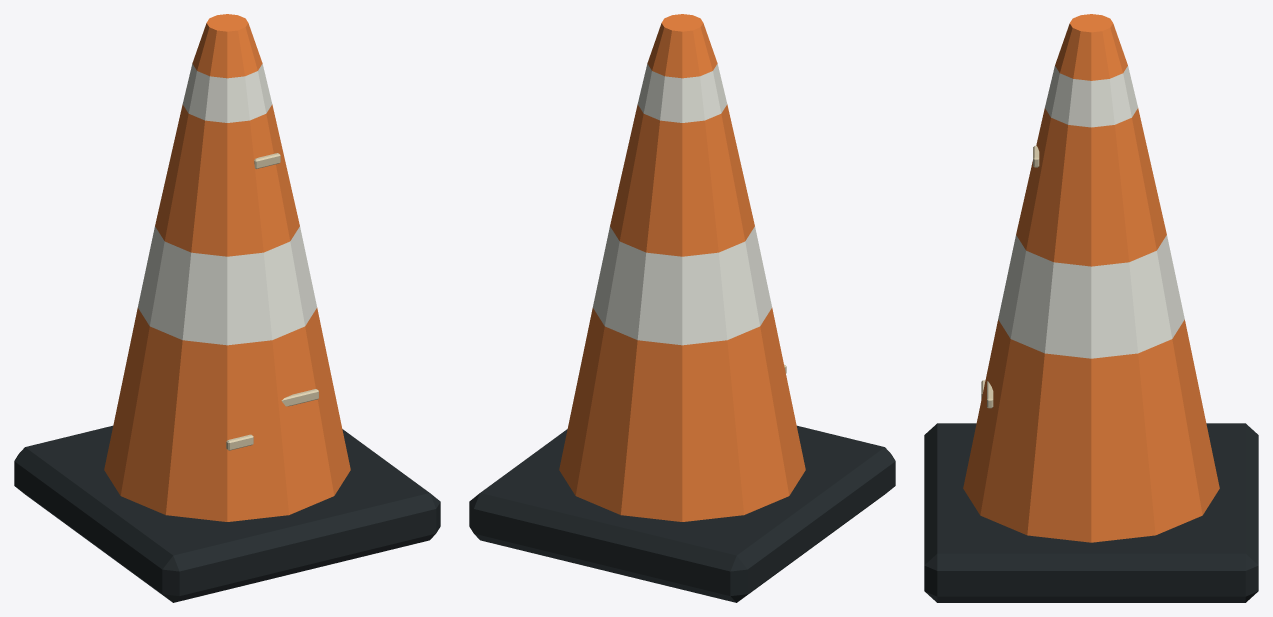
File: Traffic_Cone_Worn.glb
3 views of the same model, side by side, from view 1: azimuth 30°, elevation 25°; view 2: azimuth 150°, elevation 25°; view 3: azimuth 270°, elevation 25° (orthographic). The views are drawn at different scales.
Visible parts, largest first — view 1: Traffic_Cone_Worn; view 2: Traffic_Cone_Worn; view 3: Traffic_Cone_Worn.
Part boxes in pixels (x1=…): Traffic_Cone_Worn: x1=14, y1=14, x2=440, y2=602; Traffic_Cone_Worn: x1=469, y1=14, x2=895, y2=602; Traffic_Cone_Worn: x1=924, y1=14, x2=1258, y2=602.
Bounding box in the file's own units: 0.43 × 0.73 × 0.43.
